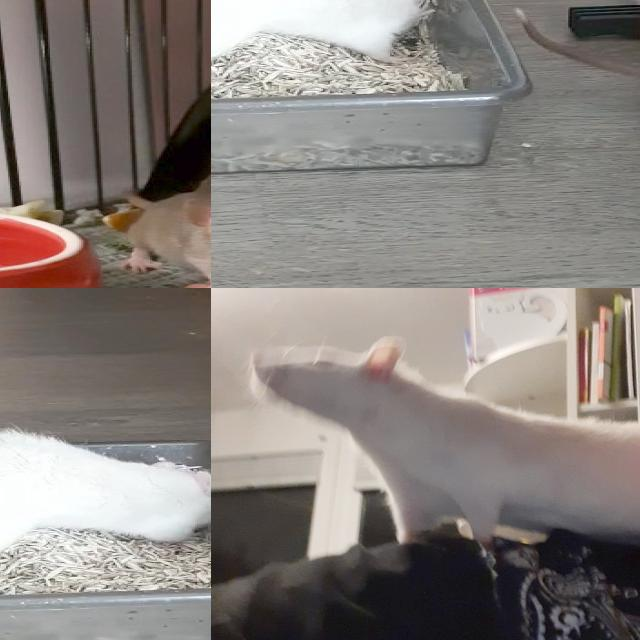rat: (245, 333, 640, 559), (0, 429, 211, 571), (211, 0, 415, 65), (132, 191, 211, 288), (190, 155, 211, 206)
